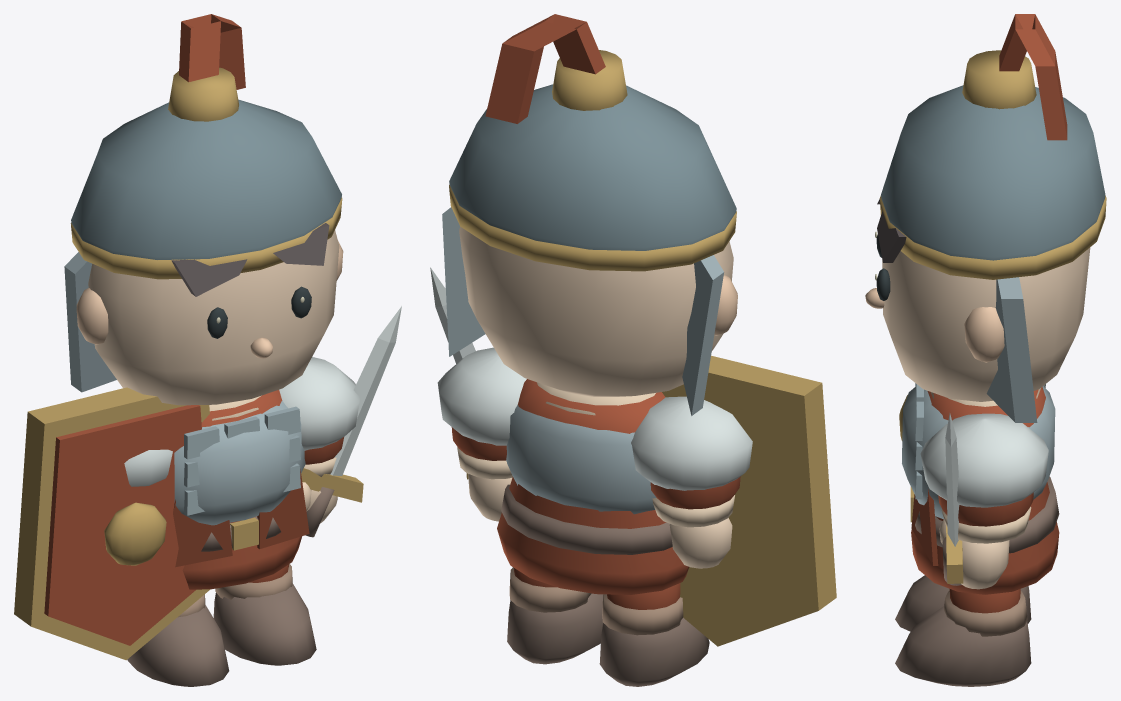
File: guard.glb
3 views of the same model, side by side, from view 1: azimuth 30°, elevation 25°; view 2: azimuth 150°, elevation 25°; view 3: azimuth 270°, elevation 25° (orthographic). The views are drawn at different scales.
Parts seen in each view (by area): view 1: Regional helmet, Soft cheek head, Regional shield face, Shield gold rim, Rounded breastplate, Round leather boot.001, Round leather boot, Big shoulder armour.001, Short folded tunic, Red silk tassel, Helmet brow band, Han side guard (+16 smaller); view 2: Regional helmet, Shield gold rim, Soft cheek head, Short folded tunic, Rounded breastplate, Big shoulder armour, Red silk tassel, Helmet brow band, Big shoulder armour.001, Round leather boot, Round leather boot.001, Broad leather belt (+15 smaller); view 3: Regional helmet, Soft cheek head, Big shoulder armour.001, Round leather boot.001, Short folded tunic, Han side guard.001, Helmet brow band, Red silk tassel, Rounded breastplate, Top knot socket, Little mitten.001, Boot turn cuff.001 (+11 smaller).
Part boxes in pixels (bbox=[...]): Regional helmet: bbox=[71, 99, 341, 259]; Soft cheek head: bbox=[88, 230, 339, 405]; Regional shield face: bbox=[44, 405, 201, 645]; Shield gold rim: bbox=[14, 387, 210, 660]; Rounded breastplate: bbox=[174, 400, 305, 525]; Round leather boot.001: bbox=[213, 583, 316, 665]; Round leather boot: bbox=[127, 604, 229, 686]; Big shoulder armour.001: bbox=[279, 357, 360, 450]; Short folded tunic: bbox=[182, 390, 301, 589]; Red silk tassel: bbox=[179, 14, 245, 89]; Helmet brow band: bbox=[70, 197, 342, 279]; Han side guard: bbox=[64, 252, 116, 392]; Regional helmet: bbox=[449, 84, 736, 250]; Shield gold rim: bbox=[662, 355, 836, 646]; Soft cheek head: bbox=[459, 226, 733, 396]; Short folded tunic: bbox=[497, 379, 688, 594]; Rounded breastplate: bbox=[506, 405, 656, 514]; Big shoulder armour: bbox=[631, 396, 752, 490]; Red silk tassel: bbox=[485, 14, 605, 123]; Helmet brow band: bbox=[449, 184, 736, 271]; Big shoulder armour.001: bbox=[437, 347, 526, 445]; Round leather boot: bbox=[599, 617, 709, 686]; Round leather boot.001: bbox=[507, 593, 602, 664]; Broad leather belt: bbox=[501, 484, 672, 554]; Regional helmet: bbox=[881, 85, 1105, 260]; Soft cheek head: bbox=[882, 247, 1090, 401]; Big shoulder armour.001: bbox=[920, 413, 1048, 507]; Round leather boot.001: bbox=[895, 606, 1031, 686]; Short folded tunic: bbox=[911, 387, 1059, 594]; Han side guard.001: bbox=[986, 277, 1037, 422]; Helmet brow band: bbox=[879, 195, 1106, 279]; Red silk tassel: bbox=[999, 14, 1067, 140]; Rounded breastplate: bbox=[902, 386, 1055, 519]; Top knot socket: bbox=[962, 50, 1036, 109]; Little mitten.001: bbox=[961, 540, 1009, 589]; Boot turn cuff.001: bbox=[944, 591, 1027, 636].
Bounding box in the file's own units: 1.12 × 1.75 × 0.602.
